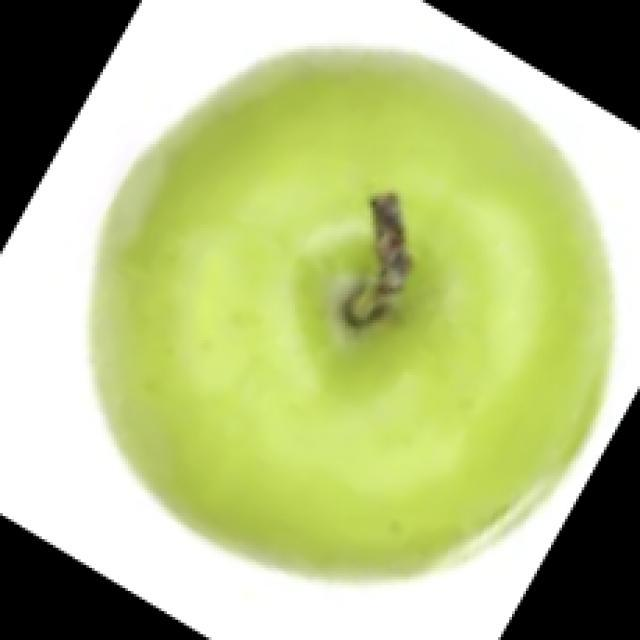Fresh Apple: (99, 59, 594, 618)
